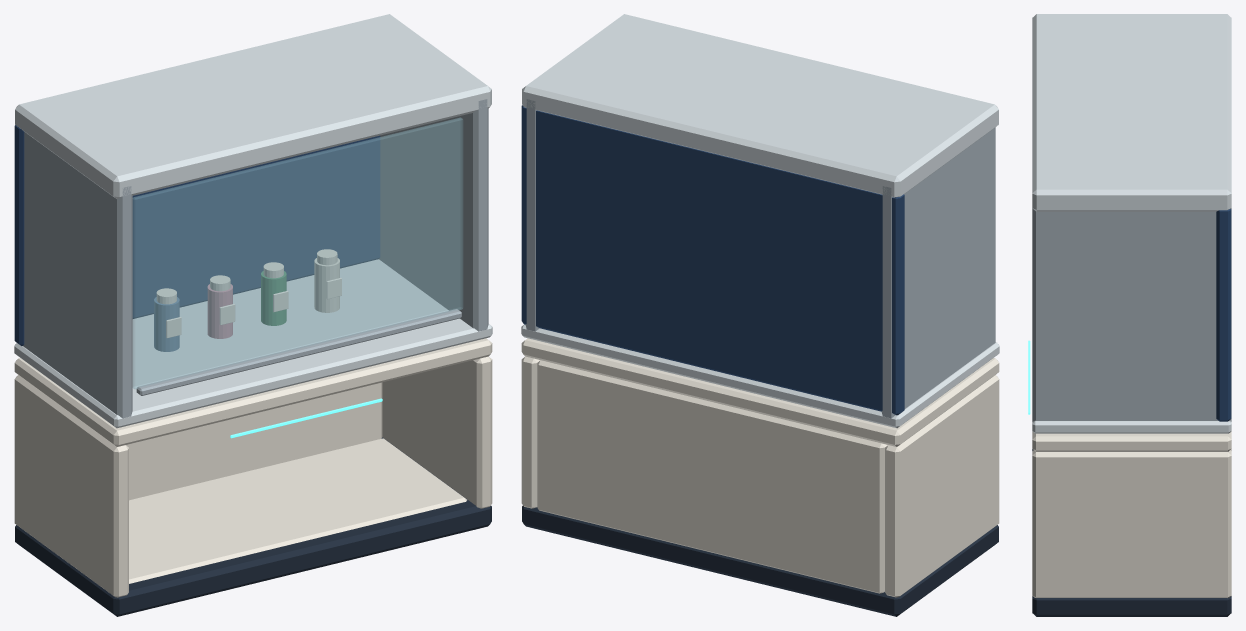
The model's file is lab_01.glb.
3 renders of one model, left to right at view 1: azimuth 30°, elevation 25°; view 2: azimuth 150°, elevation 25°; view 3: azimuth 270°, elevation 25°, orthographic. The views are drawn at different scales.
Parts seen in each view (by area): view 1: GlassSash, HoodRoof, HoodPost (×2), HoodBack, Side (×2), Worktop, Bottom, Back, Base, Top, Bottle (×4), SashGrip; view 2: HoodBack, Back, HoodRoof, HoodPost (×2), Side (×2), Base, Top, Worktop; view 3: HoodRoof, HoodPost, Side, Base, Top, HoodBack, Worktop.
Boxes of the visible parts, x1,y1,x2,y2 form: GlassSash: [132, 117, 463, 389]; HoodRoof: [15, 14, 491, 198]; HoodPost (×2): [23, 99, 488, 418]; HoodBack: [14, 125, 380, 345]; Side (×2): [14, 356, 492, 597]; Worktop: [14, 259, 492, 428]; Bottom: [129, 438, 466, 583]; Back: [126, 382, 382, 500]; Base: [15, 437, 491, 616]; Top: [14, 338, 492, 446]; Bottle (×4): [154, 258, 339, 351]; SashGrip: [136, 309, 461, 395]; HoodBack: [521, 105, 904, 415]; Back: [537, 360, 887, 593]; HoodRoof: [522, 14, 998, 197]; HoodPost (×2): [525, 99, 995, 418]; Side (×2): [521, 356, 999, 597]; Base: [522, 506, 998, 616]; Top: [521, 338, 999, 446]; Worktop: [521, 324, 999, 428]; HoodRoof: [1032, 14, 1231, 211]; HoodPost: [1032, 208, 1231, 421]; Side: [1032, 450, 1231, 597]; Base: [1032, 449, 1231, 616]; Top: [1032, 431, 1231, 451]; HoodBack: [1216, 209, 1231, 421]; Worktop: [1032, 420, 1231, 433].
Bounding box in the file's own units: 1.7 × 1.89 × 0.816.
